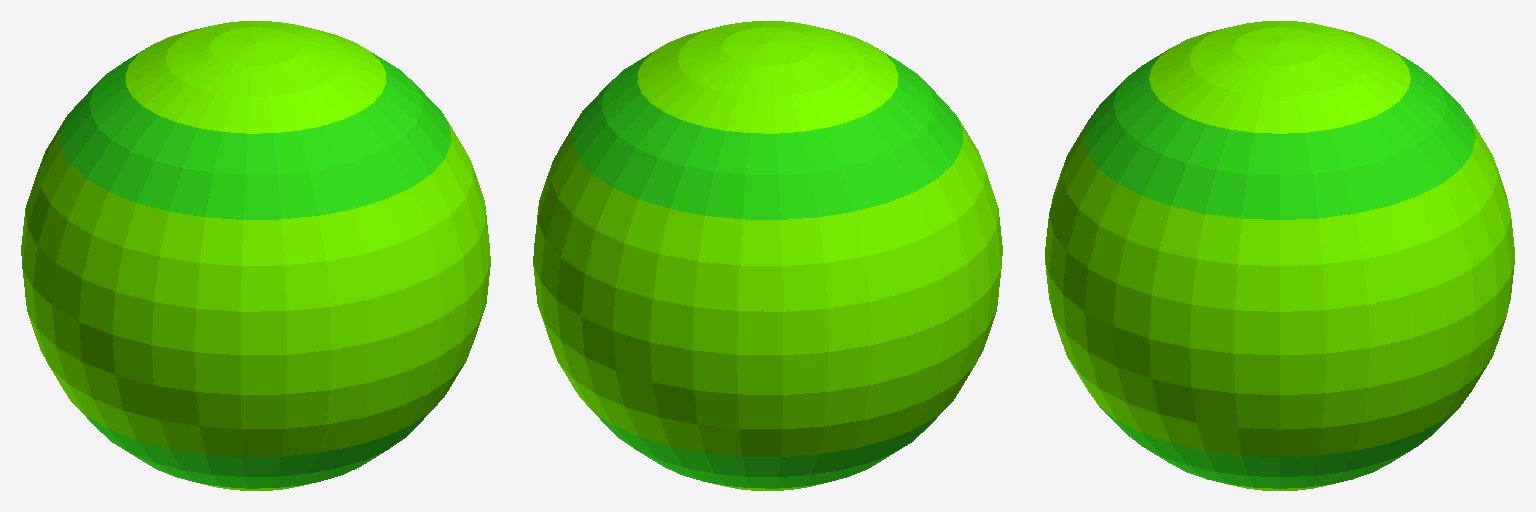
3 renders of one model, left to right at view 1: azimuth 30°, elevation 25°; view 2: azimuth 150°, elevation 25°; view 3: azimuth 270°, elevation 25°, orthographic.
Parts seen in each view (by area): view 1: 球; view 2: 球; view 3: 球.
Part boxes in pixels (bbox=[...]): 球: bbox=[21, 21, 490, 490]; 球: bbox=[533, 21, 1002, 490]; 球: bbox=[1045, 21, 1514, 490].
Size of the model in its own units: 2 by 2 by 2.
2 materials, 2 textured.